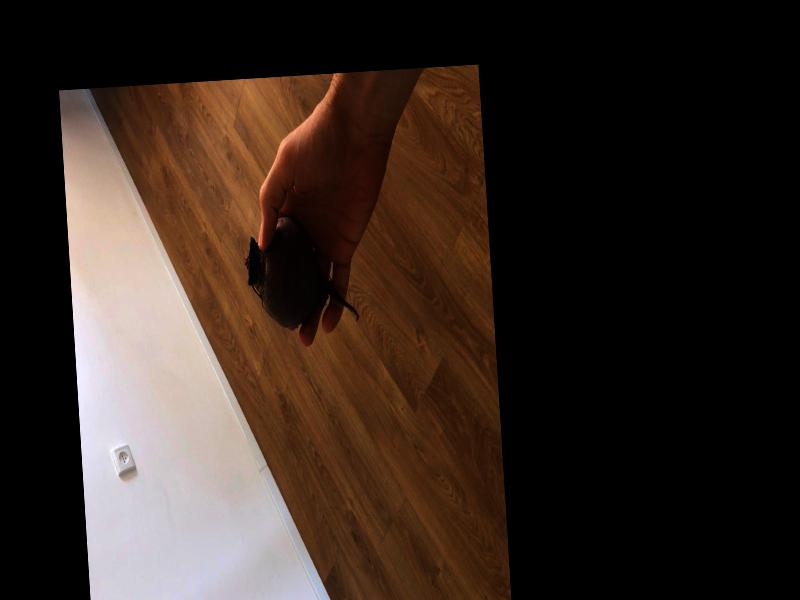Beet: (245, 212, 359, 333)
